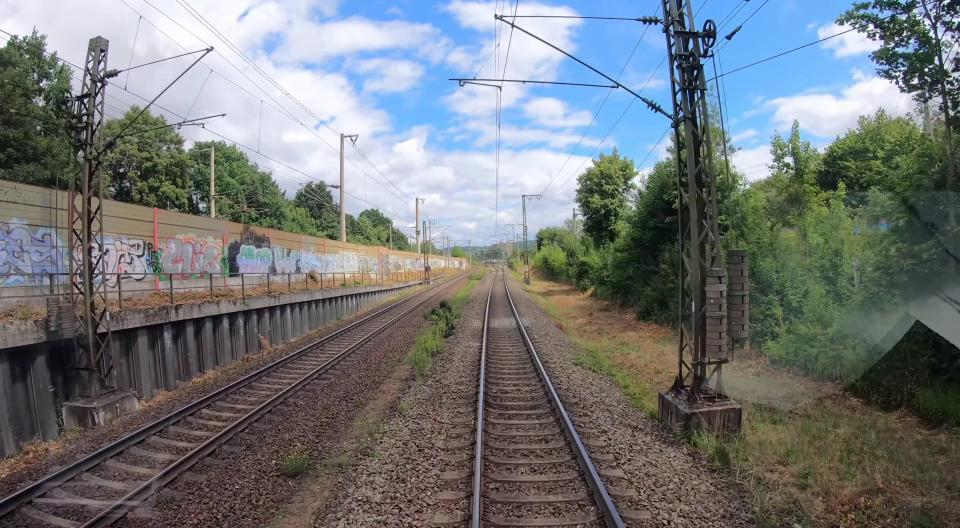Plant: (574, 342, 656, 418), (408, 290, 470, 376), (280, 454, 310, 478), (325, 454, 351, 467), (398, 399, 410, 416), (555, 322, 564, 330)
